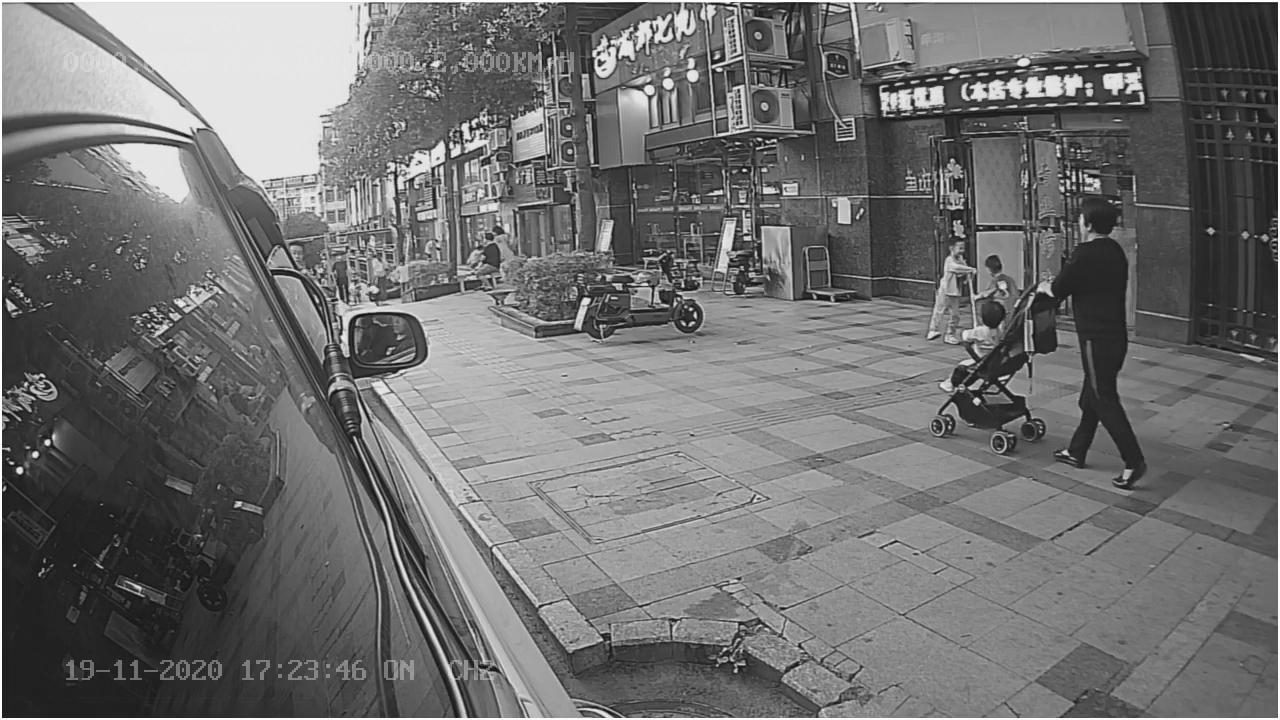person: (1028, 191, 1152, 496)
